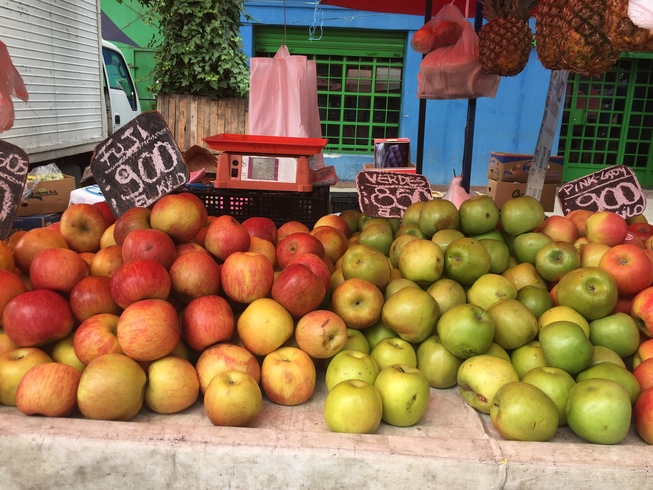precio: (77, 106, 195, 215), (555, 159, 648, 236), (355, 164, 442, 228)
